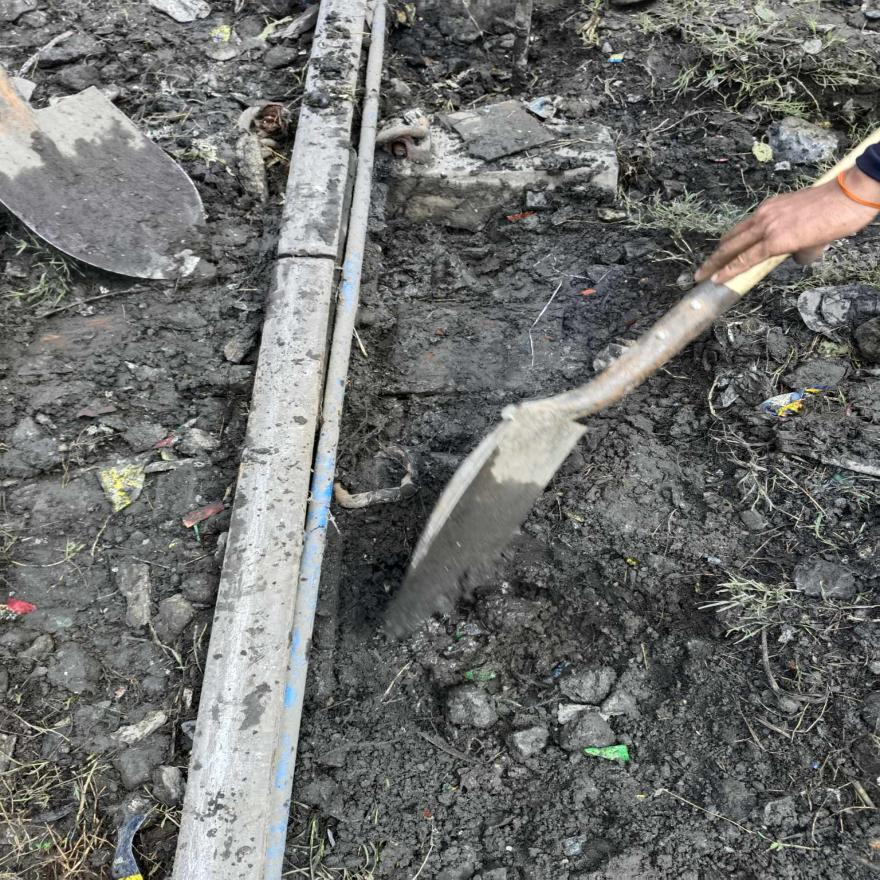railway-gap: (233, 206, 380, 305)
